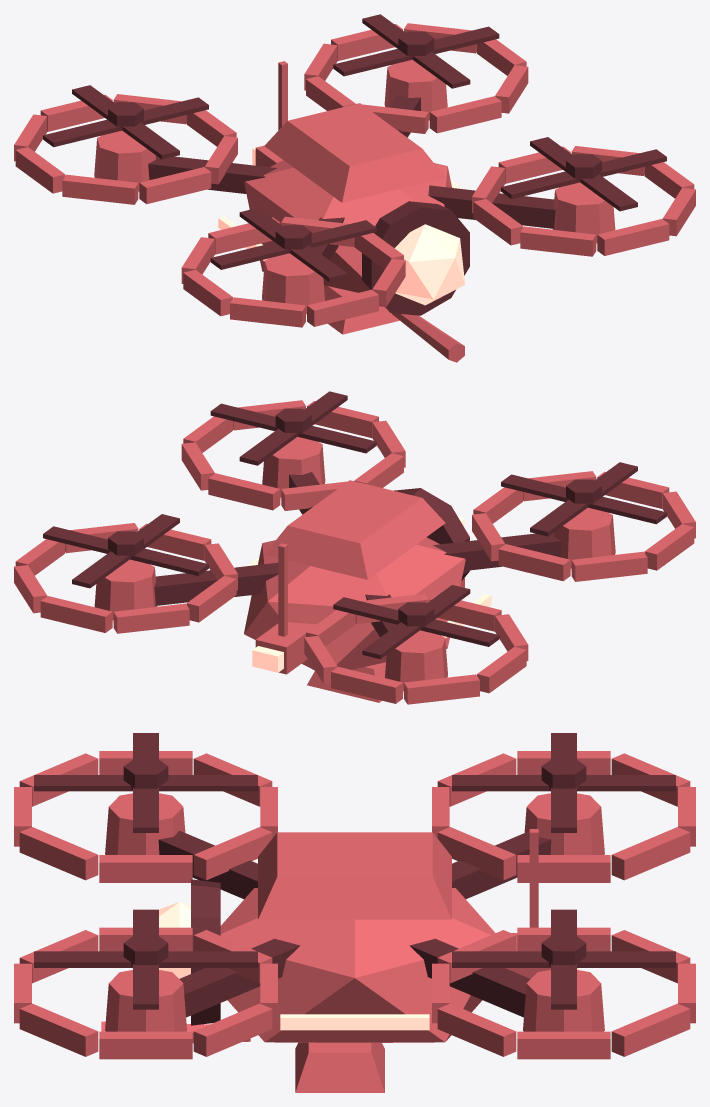
Rendered from enemy_drone.glb.
3 renders of one model, top to bottom at view 1: azimuth 30°, elevation 25°; view 2: azimuth 150°, elevation 25°; view 3: azimuth 270°, elevation 25°, orthographic. The views are drawn at different scales.
Parts seen in each view (by area): view 1: hull, guard_LF, guard_RF, guard_RB, guard_LB, rotor_LB, rotor_RB, rotor_RF, rotor_LF, eye, eye_ring, motor_RF (+5 smaller); view 2: hull, guard_LB, guard_RB, guard_RF, guard_LF, rotor_LF, rotor_RF, rotor_RB, rotor_LB, motor_RB, arm_LB, motor_LB (+5 smaller); view 3: hull, guard_LB, guard_LF, guard_RF, guard_RB, rotor_LB, rotor_LF, rotor_RB, rotor_RF, motor_LB, motor_LF, motor_RF (+8 smaller).
Part boxes in pixels (<box>): hull: <box>244,61,464,362</box>; guard_LF: <box>472,146,695,256</box>; guard_RF: <box>181,216,405,327</box>; guard_RB: <box>14,94,237,204</box>; guard_LB: <box>304,23,528,133</box>; rotor_LB: <box>333,14,499,88</box>; rotor_RB: <box>43,85,208,159</box>; rotor_RF: <box>210,208,376,282</box>; rotor_LF: <box>501,137,666,211</box>; eye: <box>394,224,465,305</box>; eye_ring: <box>362,201,469,315</box>; motor_RF: <box>262,253,324,314</box>; hull: <box>244,480,465,702</box>; guard_LB: <box>14,523,237,633</box>; guard_RB: <box>304,593,528,704</box>; guard_RF: <box>472,471,695,581</box>; guard_LF: <box>181,400,405,510</box>; rotor_LF: <box>210,391,376,465</box>; rotor_RF: <box>501,462,666,536</box>; rotor_RB: <box>333,585,499,659</box>; rotor_LB: <box>43,514,208,588</box>; motor_RB: <box>385,630,447,691</box>; arm_LB: <box>154,562,278,605</box>; motor_LB: <box>94,559,157,620</box>; hull: <box>101,829,550,1092</box>; guard_LB: <box>432,927,695,1059</box>; guard_LF: <box>14,927,277,1059</box>; guard_RF: <box>14,751,277,882</box>; guard_RB: <box>432,751,695,882</box>; rotor_LB: <box>452,909,675,1009</box>; rotor_LF: <box>34,909,257,1009</box>; rotor_RB: <box>452,733,675,832</box>; rotor_RF: <box>34,733,257,832</box>; motor_LB: <box>523,970,604,1031</box>; motor_LF: <box>105,970,186,1031</box>; motor_RF: <box>105,793,185,854</box>.
Bounding box in the file's own units: 0.914 × 0.355 × 0.914.
